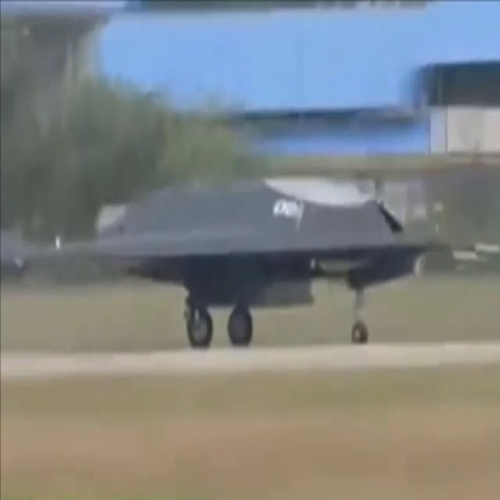uav1041: (30, 164, 446, 348)
